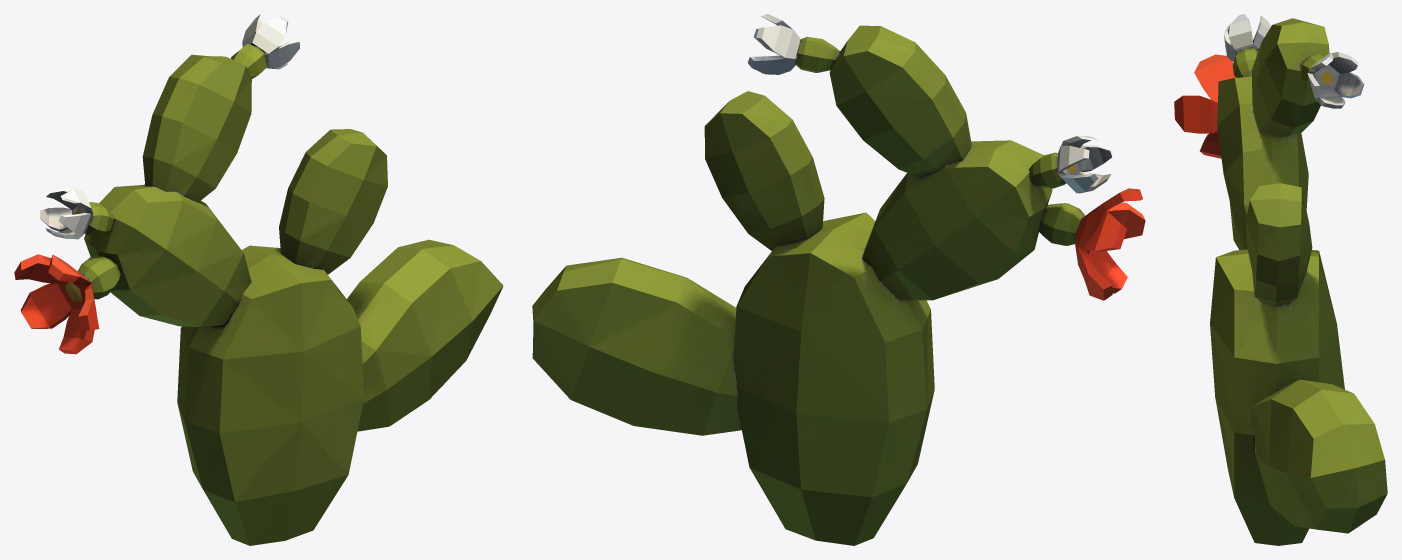
Rendered from Prickly pear cactus-transformed.glb.
The picture shows the model from 3 angles, left to right: view 1: azimuth 30°, elevation 25°; view 2: azimuth 150°, elevation 25°; view 3: azimuth 270°, elevation 25°; orthographic projection. The views are drawn at different scales.
Parts seen in each view (by area): view 1: prickly_pear_cactus; view 2: prickly_pear_cactus; view 3: prickly_pear_cactus.
Part boxes in pixels (left/top/right/bottom): prickly_pear_cactus: left=14, top=14, right=503, bottom=545; prickly_pear_cactus: left=532, top=14, right=1145, bottom=545; prickly_pear_cactus: left=1174, top=14, right=1387, bottom=545.
Size of the model in its own units: 2.43 by 2.21 by 0.8762.
1 material, 1 textured.
